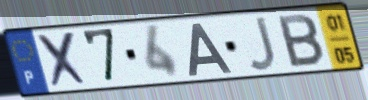4: (143, 21, 182, 83)
7: (79, 27, 118, 86)
A: (187, 21, 235, 78)
B: (275, 13, 327, 70)
J: (246, 14, 279, 73)
X: (34, 29, 92, 90)
